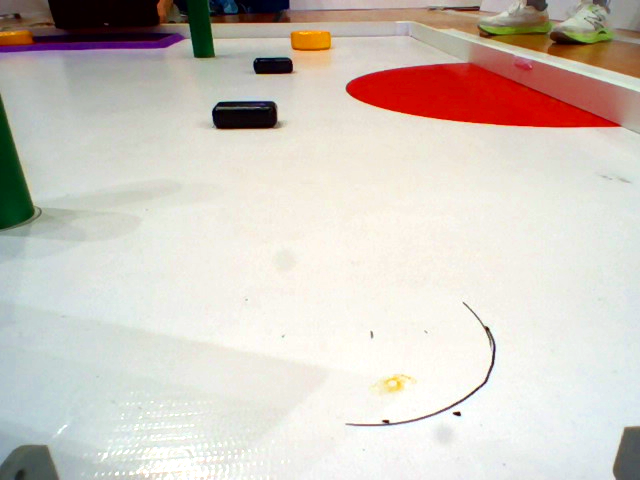black: (210, 100, 280, 127), (250, 52, 295, 74)
kuang: (1, 23, 188, 52)
yellow: (284, 26, 334, 52), (1, 26, 37, 47)
zhuzi: (186, 1, 216, 58)
